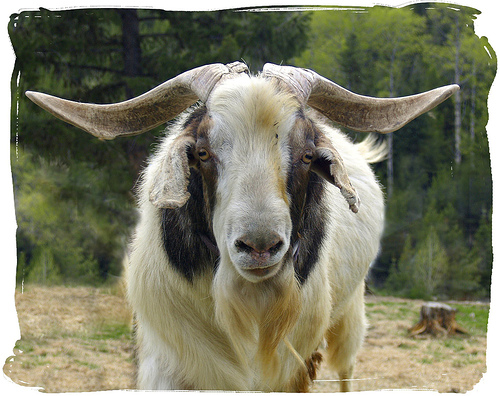goat: (24, 60, 462, 390)
